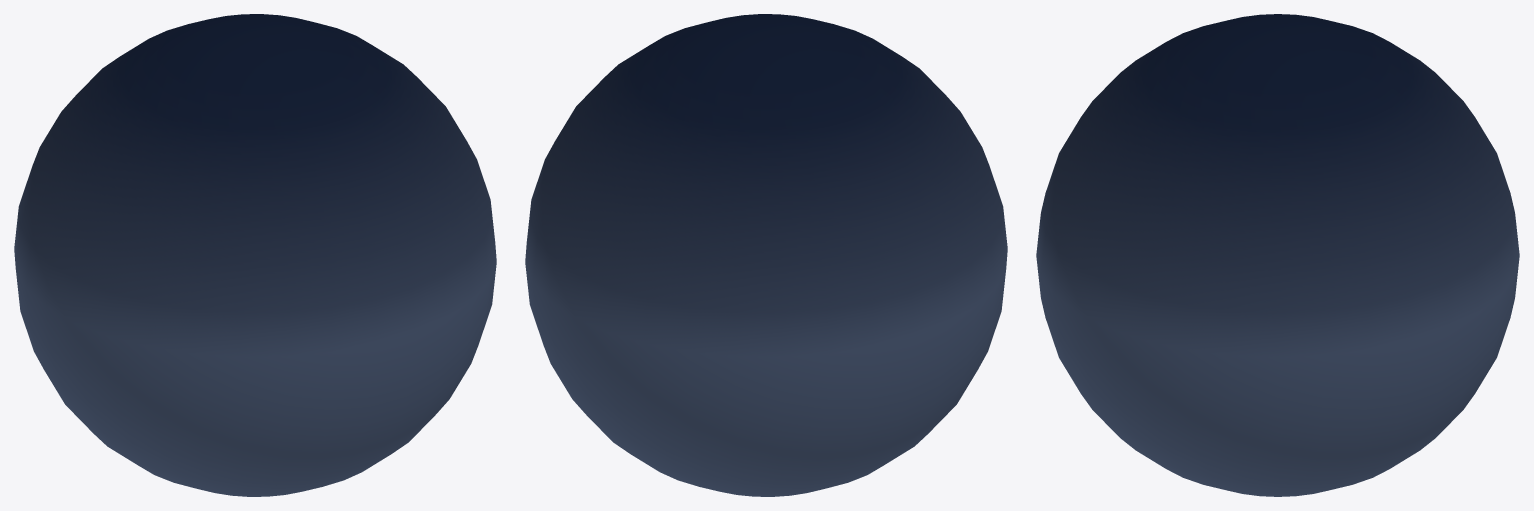
The model's file is stadium-night.glb.
3 renders of one model, left to right at view 1: azimuth 30°, elevation 25°; view 2: azimuth 150°, elevation 25°; view 3: azimuth 270°, elevation 25°, orthographic.
Visible parts, largest first — view 1: Sky sky; view 2: Sky sky; view 3: Sky sky.
Boxes of the visible parts, bbox=[...] form: Sky sky: bbox=[14, 14, 496, 496]; Sky sky: bbox=[525, 14, 1007, 496]; Sky sky: bbox=[1036, 14, 1519, 496].
Bounding box in the file's own units: 840 × 840 × 840.
